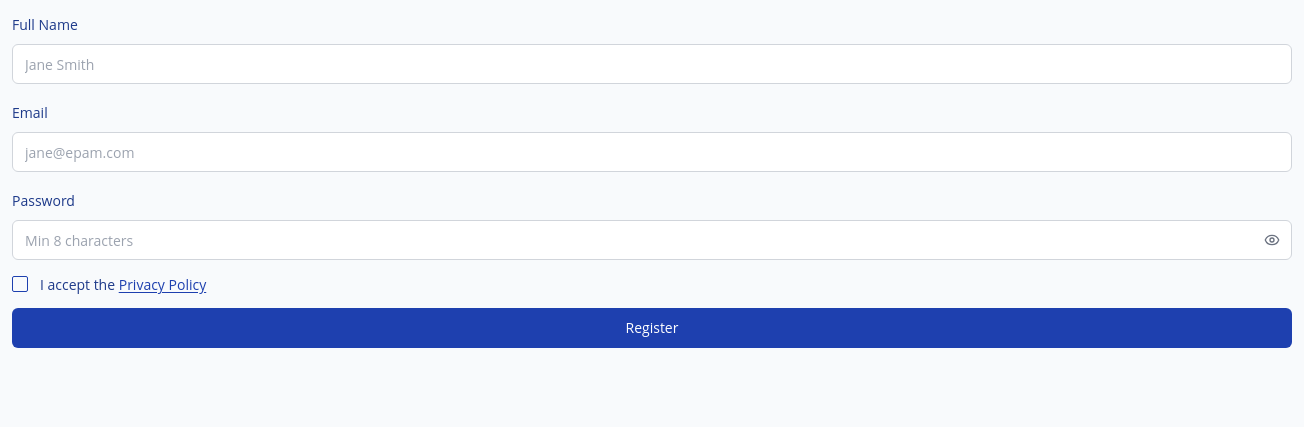
Test: RegisterForm › shows error message on 409 duplicate email
The width and height of the screenshot is (1304, 427).
Type "Alice" into the field labelled "Full Name".
click(652, 64); type("Alice")  # box [12,44,1292,84]
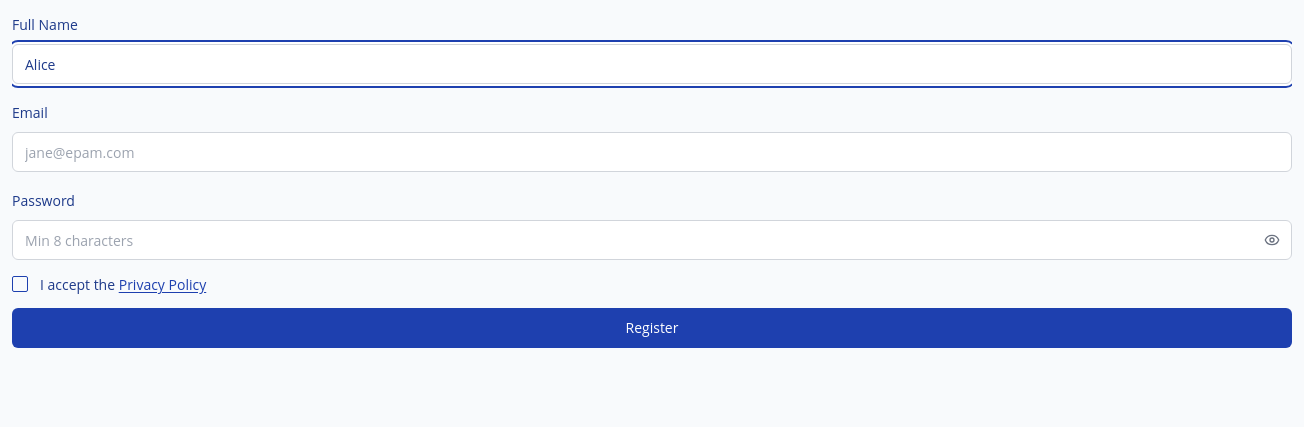
Type "alice@epam.com" into the field labelled "Email".
click(652, 152); type("alice@epam.com")  # box [12,132,1292,172]
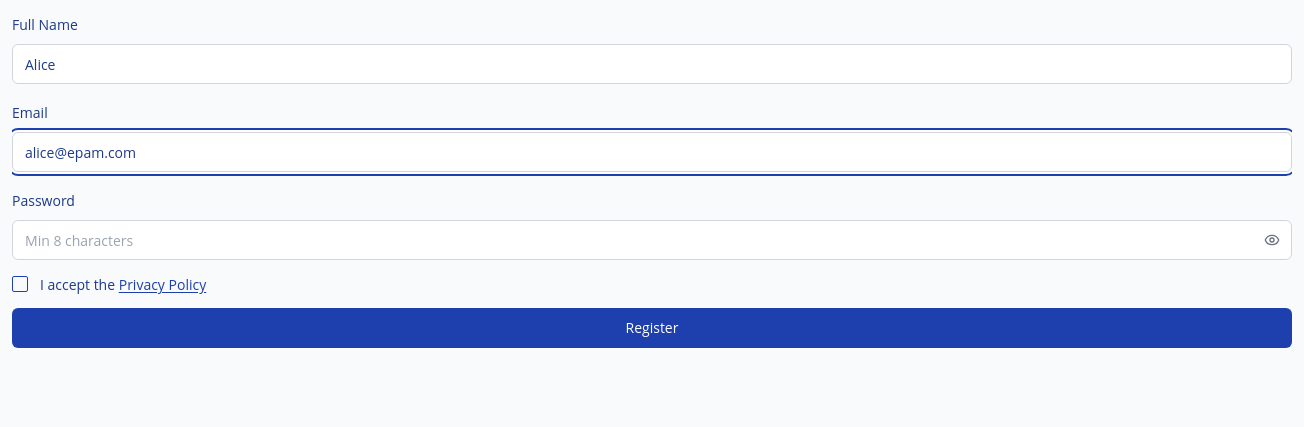
Type "password123" into the password field labelled "Password".
click(652, 240); type("password123")  # box [12,220,1292,260]
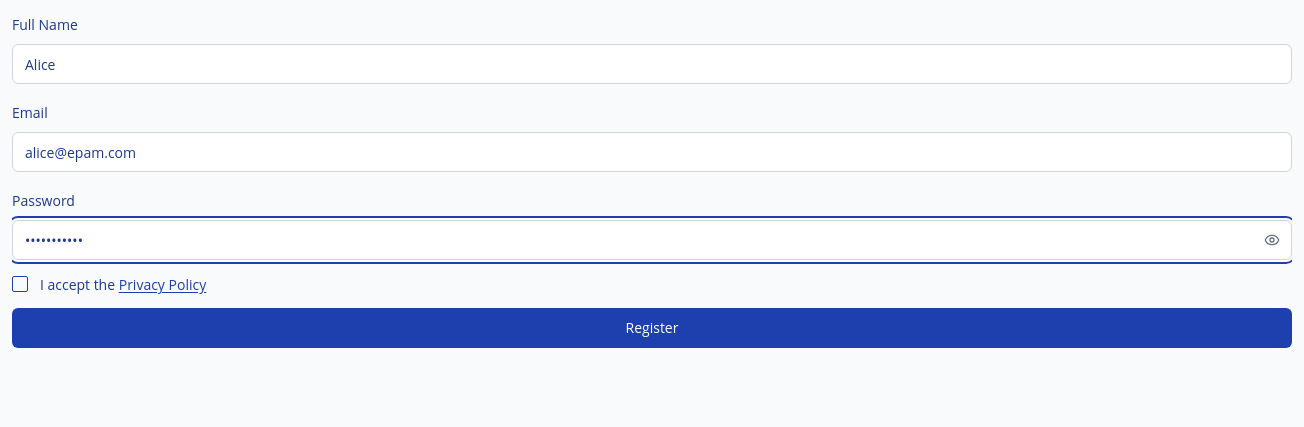
Click the checkbox.
click(20, 284)  # box [12,276,28,292]
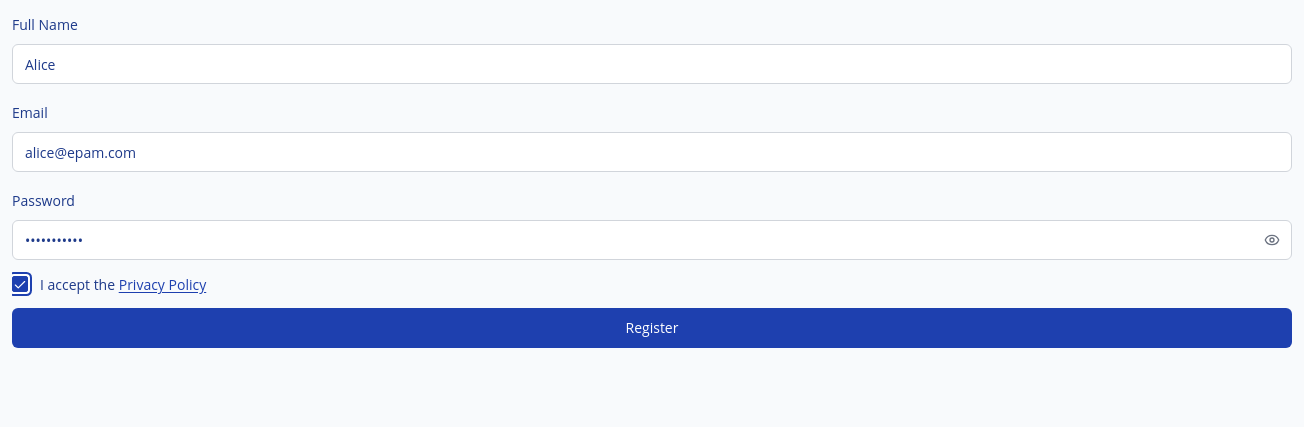
Click the button "Register".
click(652, 328)  # box [12,308,1292,348]
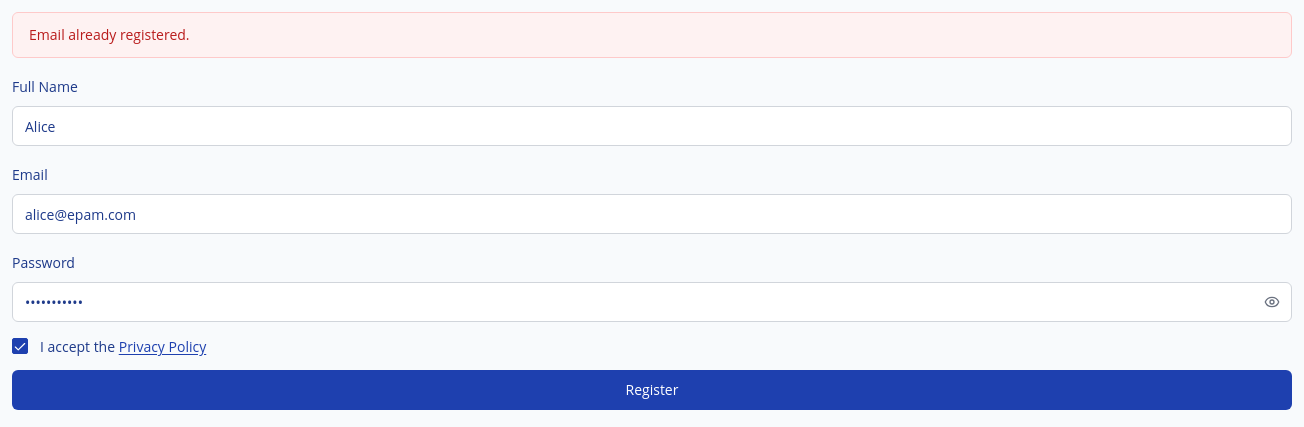
Expected: the text "Email already registered." is shown, [12,12,1292,58]
